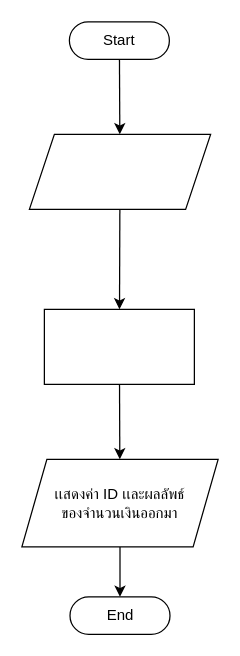
The diagram is 240 pixels wide and 656 high, and some of its shapes have lost their labels. Each missing label, with the centre of its shape:
"กรอกเลข ID , ชั่วโมง , จำนวนเงิน" belongs at [119,171].
"เอาชั่วโมงคูณกับจำนวนเงิน" belongs at [118,346].
